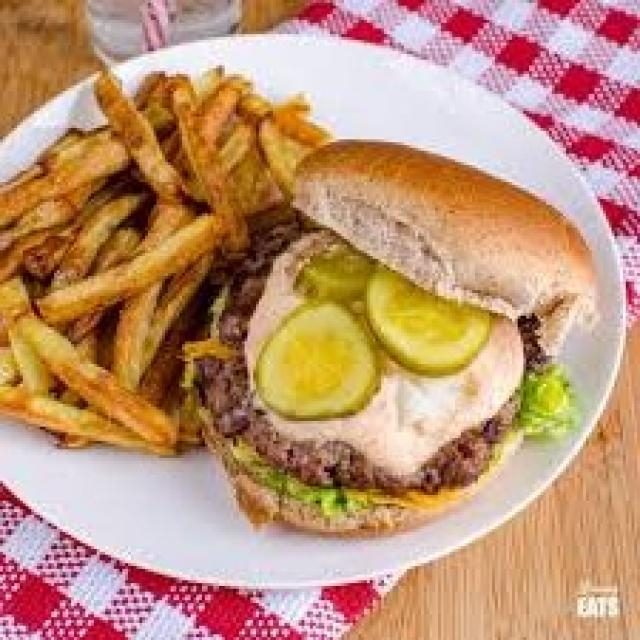Burger: (185, 137, 606, 540)
French Fries: (3, 54, 310, 455)
